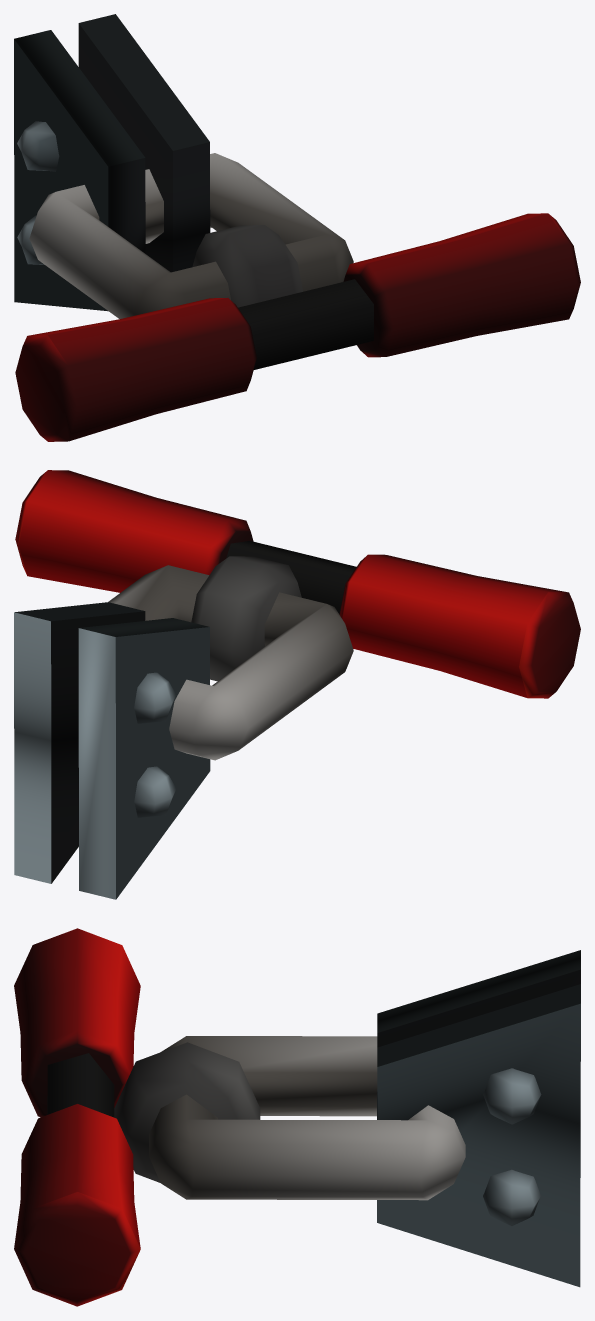
File: ZiplineHandle.fbx
The picture shows the model from 3 angles, top to bottom: view 1: azimuth 30°, elevation 25°; view 2: azimuth 150°, elevation 25°; view 3: azimuth 270°, elevation 25°; orthographic projection. The views are drawn at different scales.
Parts seen in each view (by area): view 1: ZiplineHandle; view 2: ZiplineHandle; view 3: ZiplineHandle.
Part boxes in pixels (left/top/right/bottom): ZiplineHandle: left=14, top=14, right=580, bottom=441; ZiplineHandle: left=14, top=470, right=580, bottom=899; ZiplineHandle: left=14, top=928, right=580, bottom=1306.
Size of the model in its own units: 76.21 by 37.09 by 67.13.
